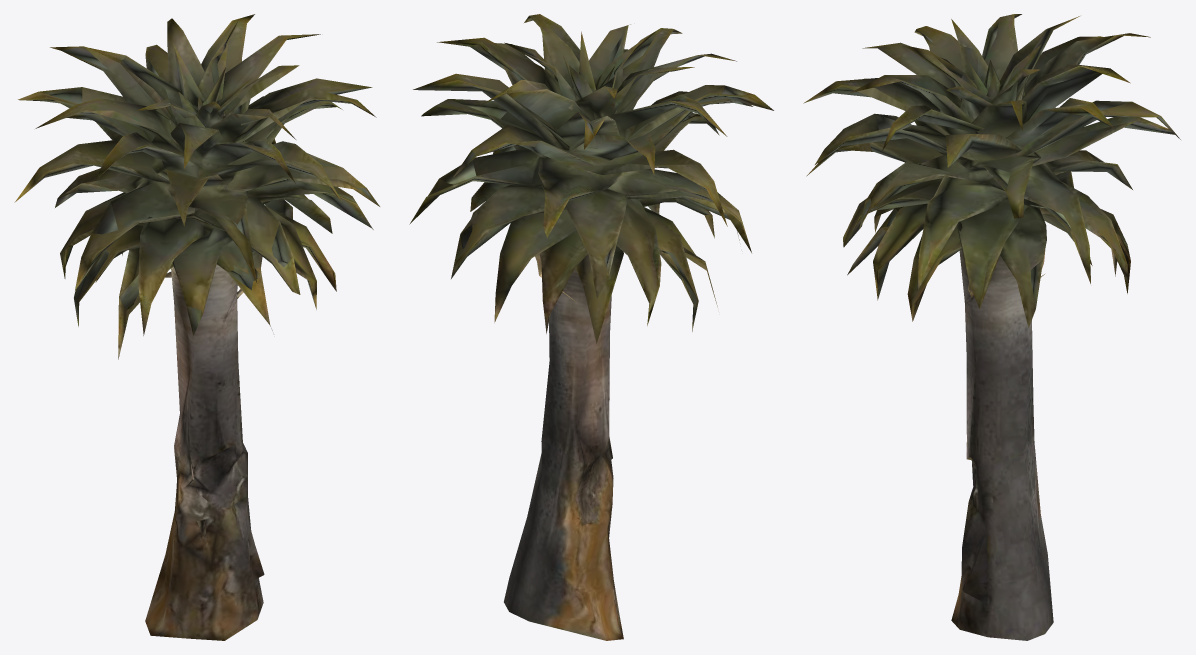
File: quiver_tree_02.glb
The picture shows the model from 3 angles, left to right: view 1: azimuth 30°, elevation 25°; view 2: azimuth 150°, elevation 25°; view 3: azimuth 270°, elevation 25°; orthographic projection.
Parts seen in each view (by area): view 1: quiver_tree_02; view 2: quiver_tree_02; view 3: quiver_tree_02.
Boxes of the visible parts, x1,y1,x2,y2 form: quiver_tree_02: [14, 14, 379, 640]; quiver_tree_02: [409, 14, 773, 640]; quiver_tree_02: [803, 14, 1180, 640].
Size of the model in its own units: 0.8371 by 1.46 by 0.8605.
1 material, 1 textured.
